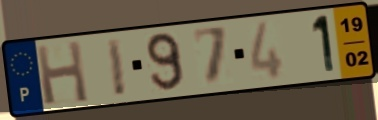1: (308, 12, 338, 77)
4: (248, 19, 289, 83)
7: (190, 26, 230, 89)
9: (145, 30, 187, 95)
H: (33, 38, 91, 107)
I: (104, 36, 129, 100)
